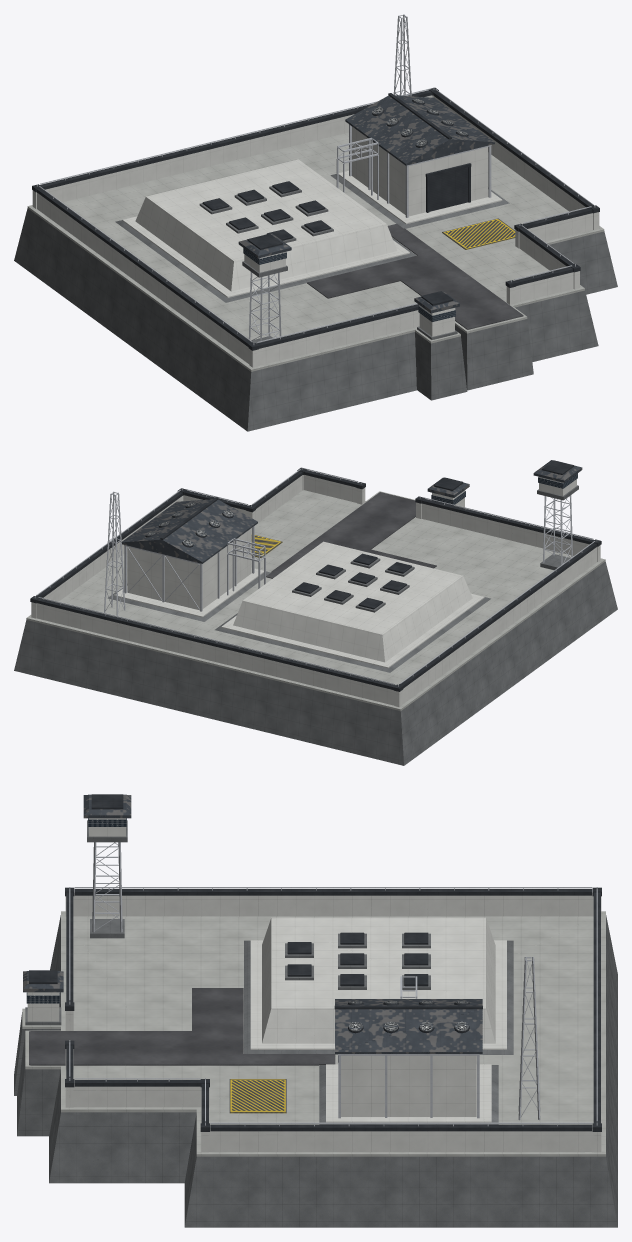
Rendered from abm_silo_lvl2.glb.
The picture shows the model from 3 angles, top to bottom: view 1: azimuth 30°, elevation 25°; view 2: azimuth 150°, elevation 25°; view 3: azimuth 270°, elevation 25°; orthographic projection. The views are drawn at different scales.
Parts seen in each view (by area): view 1: SLO_L2_ConcLight, SLO_L2_ConcDark, SLO_L2_ConcMid, SLO_L2_SteelDark, SLO_L2_Asphalt, SLO_L2_RoofCorr, SLO_L2_SteelTruss, SLO_L2_DoorCorr, SLO_L2_HatchZone; view 2: SLO_L2_ConcLight, SLO_L2_ConcDark, SLO_L2_ConcMid, SLO_L2_SteelDark, SLO_L2_SteelTruss, SLO_L2_RoofCorr, SLO_L2_Asphalt, SLO_L2_WindowDark; view 3: SLO_L2_ConcLight, SLO_L2_ConcDark, SLO_L2_ConcMid, SLO_L2_SteelDark, SLO_L2_Asphalt, SLO_L2_RoofCorr, SLO_L2_SteelTruss, SLO_L2_HatchZone, SLO_L2_RoofVent, SLO_L2_WindowDark.
Boxes of the visible parts, x1,y1,x2,y2 form: SLO_L2_ConcLight: [32, 95, 599, 367]; SLO_L2_ConcDark: [14, 174, 617, 431]; SLO_L2_ConcMid: [27, 132, 604, 371]; SLO_L2_SteelDark: [32, 87, 599, 350]; SLO_L2_Asphalt: [307, 223, 523, 329]; SLO_L2_RoofCorr: [238, 95, 494, 313]; SLO_L2_SteelTruss: [36, 14, 595, 344]; SLO_L2_DoorCorr: [429, 167, 468, 211]; SLO_L2_HatchZone: [442, 218, 515, 249]; SLO_L2_ConcLight: [31, 475, 600, 707]; SLO_L2_ConcDark: [14, 485, 617, 765]; SLO_L2_ConcMid: [26, 490, 605, 710]; SLO_L2_SteelDark: [30, 460, 601, 691]; SLO_L2_SteelTruss: [34, 467, 597, 686]; SLO_L2_RoofCorr: [121, 460, 582, 563]; SLO_L2_Asphalt: [266, 492, 436, 578]; SLO_L2_WindowDark: [431, 473, 577, 505]; SLO_L2_ConcLight: [27, 818, 601, 1152]; SLO_L2_ConcDark: [14, 820, 617, 1227]; SLO_L2_ConcMid: [22, 911, 605, 1156]; SLO_L2_SteelDark: [29, 794, 601, 1131]; SLO_L2_Asphalt: [29, 988, 335, 1065]; SLO_L2_RoofCorr: [23, 794, 482, 1053]; SLO_L2_SteelTruss: [69, 842, 597, 1126]; SLO_L2_HatchZone: [229, 1079, 286, 1113]; SLO_L2_RoofVent: [348, 1001, 469, 1031]; SLO_L2_WindowDark: [26, 818, 126, 1003].
Size of the model in its own units: 79.5 by 33.01 by 80.15.
11 materials, 11 textured.
